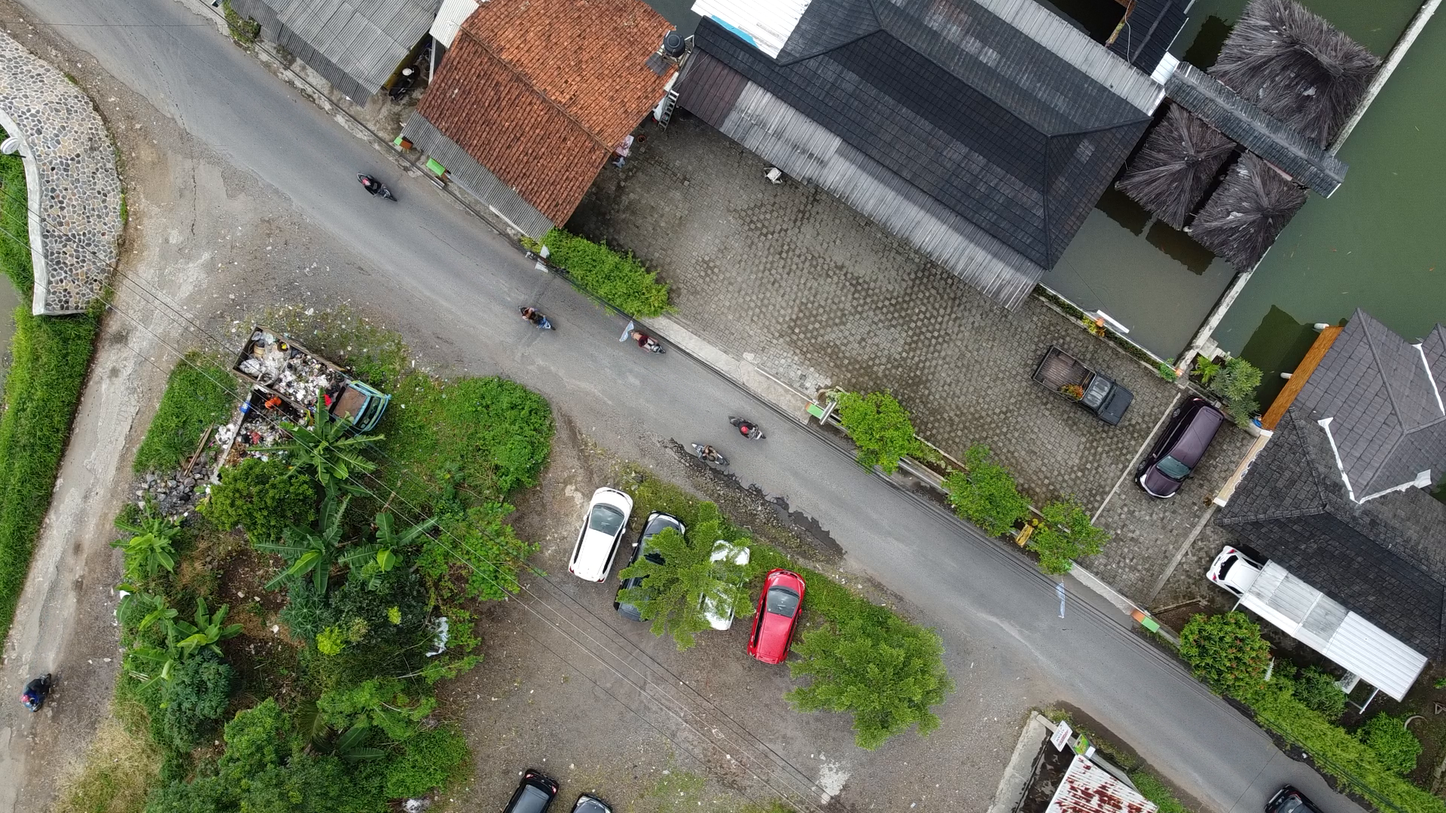mobil: (1129, 392, 1232, 507), (1023, 342, 1150, 433), (559, 483, 634, 598), (1197, 537, 1300, 614), (741, 561, 808, 664), (686, 536, 755, 632), (630, 507, 691, 602), (495, 761, 563, 813)
